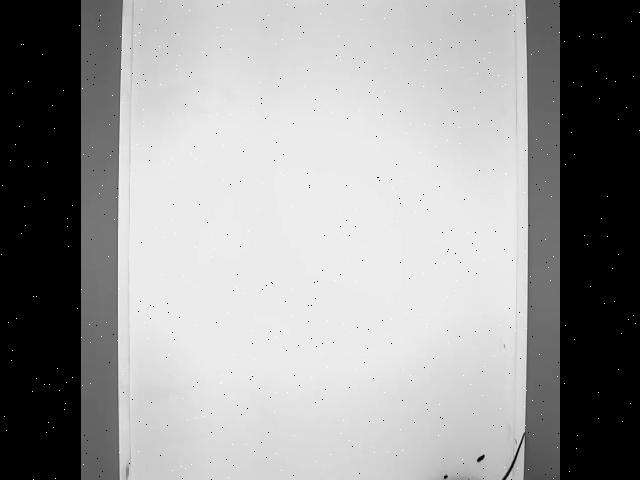Tikus: (425, 432, 525, 480)
